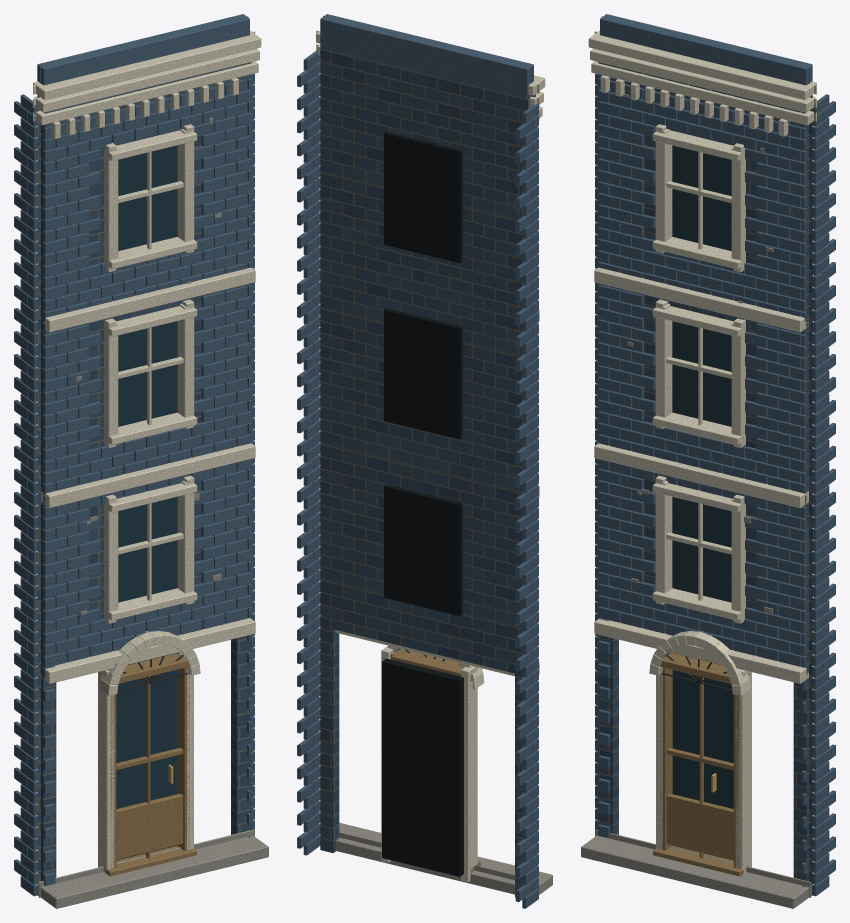
File: OFFC5_lod0.glb
3 renders of one model, left to right at view 1: azimuth 30°, elevation 25°; view 2: azimuth 150°, elevation 25°; view 3: azimuth 330°, elevation 25°, orthographic.
Visible parts, largest first — view 1: OFFC5_FRONT_LOD0; view 2: OFFC5_FRONT_LOD0; view 3: OFFC5_FRONT_LOD0.
Boxes of the visible parts, bbox=[...] form: OFFC5_FRONT_LOD0: bbox=[14, 14, 268, 908]; OFFC5_FRONT_LOD0: bbox=[297, 14, 552, 908]; OFFC5_FRONT_LOD0: bbox=[581, 14, 835, 908].
Size of the model in its own units: 3.44 by 12.26 by 1.02.
12 materials, 9 textured.
